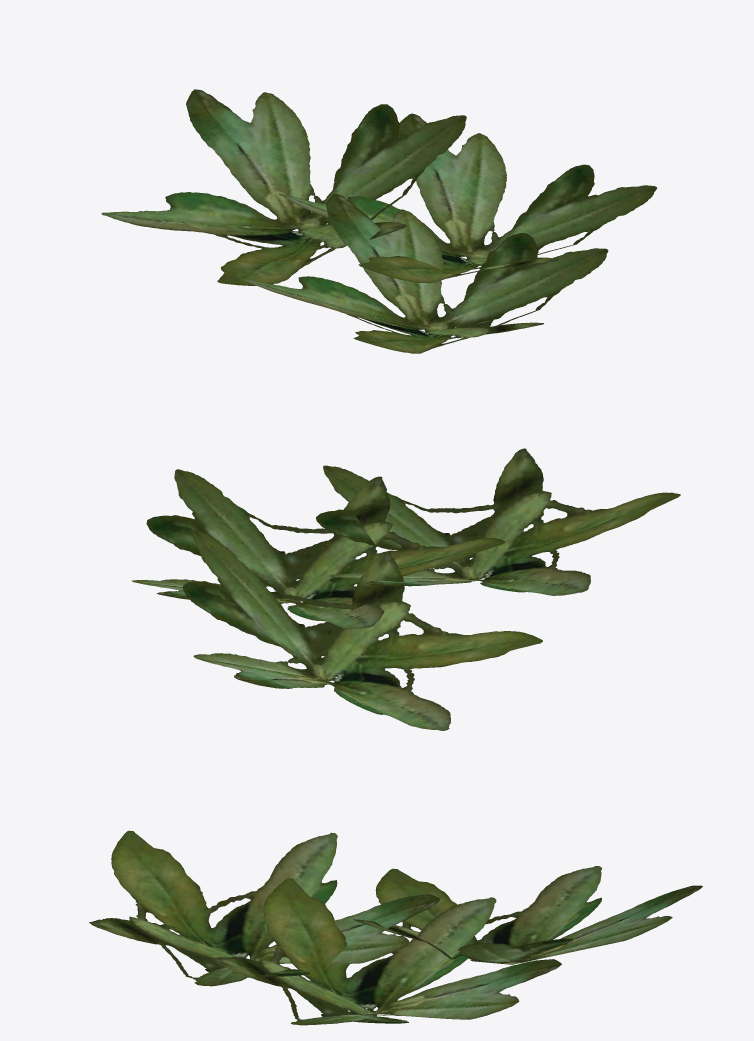
The model's file is ptch_weedclump.fbx.
3 views of the same model, one above another, from view 1: azimuth 30°, elevation 25°; view 2: azimuth 150°, elevation 25°; view 3: azimuth 270°, elevation 25° (orthographic). The views are drawn at different scales.
Parts seen in each view (by area): view 1: mesh_node; view 2: mesh_node; view 3: mesh_node.
Part boxes in pixels (box(x1,y1,x2,y2)): mesh_node: box(101, 89, 656, 353); mesh_node: box(132, 448, 680, 730); mesh_node: box(89, 830, 702, 1025).
Size of the model in its own units: 0.4805 by 0.1008 by 0.6333.
Materials: 1 (1 with a texture image).
